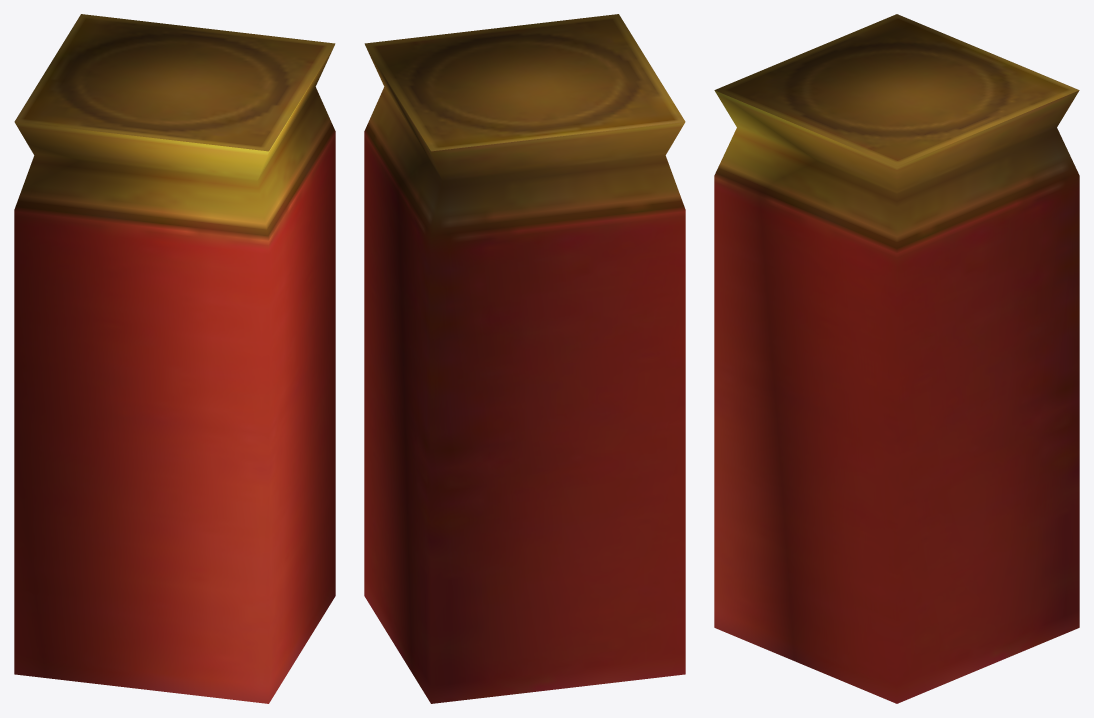
File: Cartridge__case01_82d592d3__Cartridge__case_01_5cb30e86_c1f257.obj
3 renders of one model, left to right at view 1: azimuth 30°, elevation 25°; view 2: azimuth 150°, elevation 25°; view 3: azimuth 270°, elevation 25°, orthographic. The views are drawn at different scales.
Bounding box in the file's own units: 0.1422 × 0.2337 × 0.144.
Materials: 1 (1 with a texture image).
